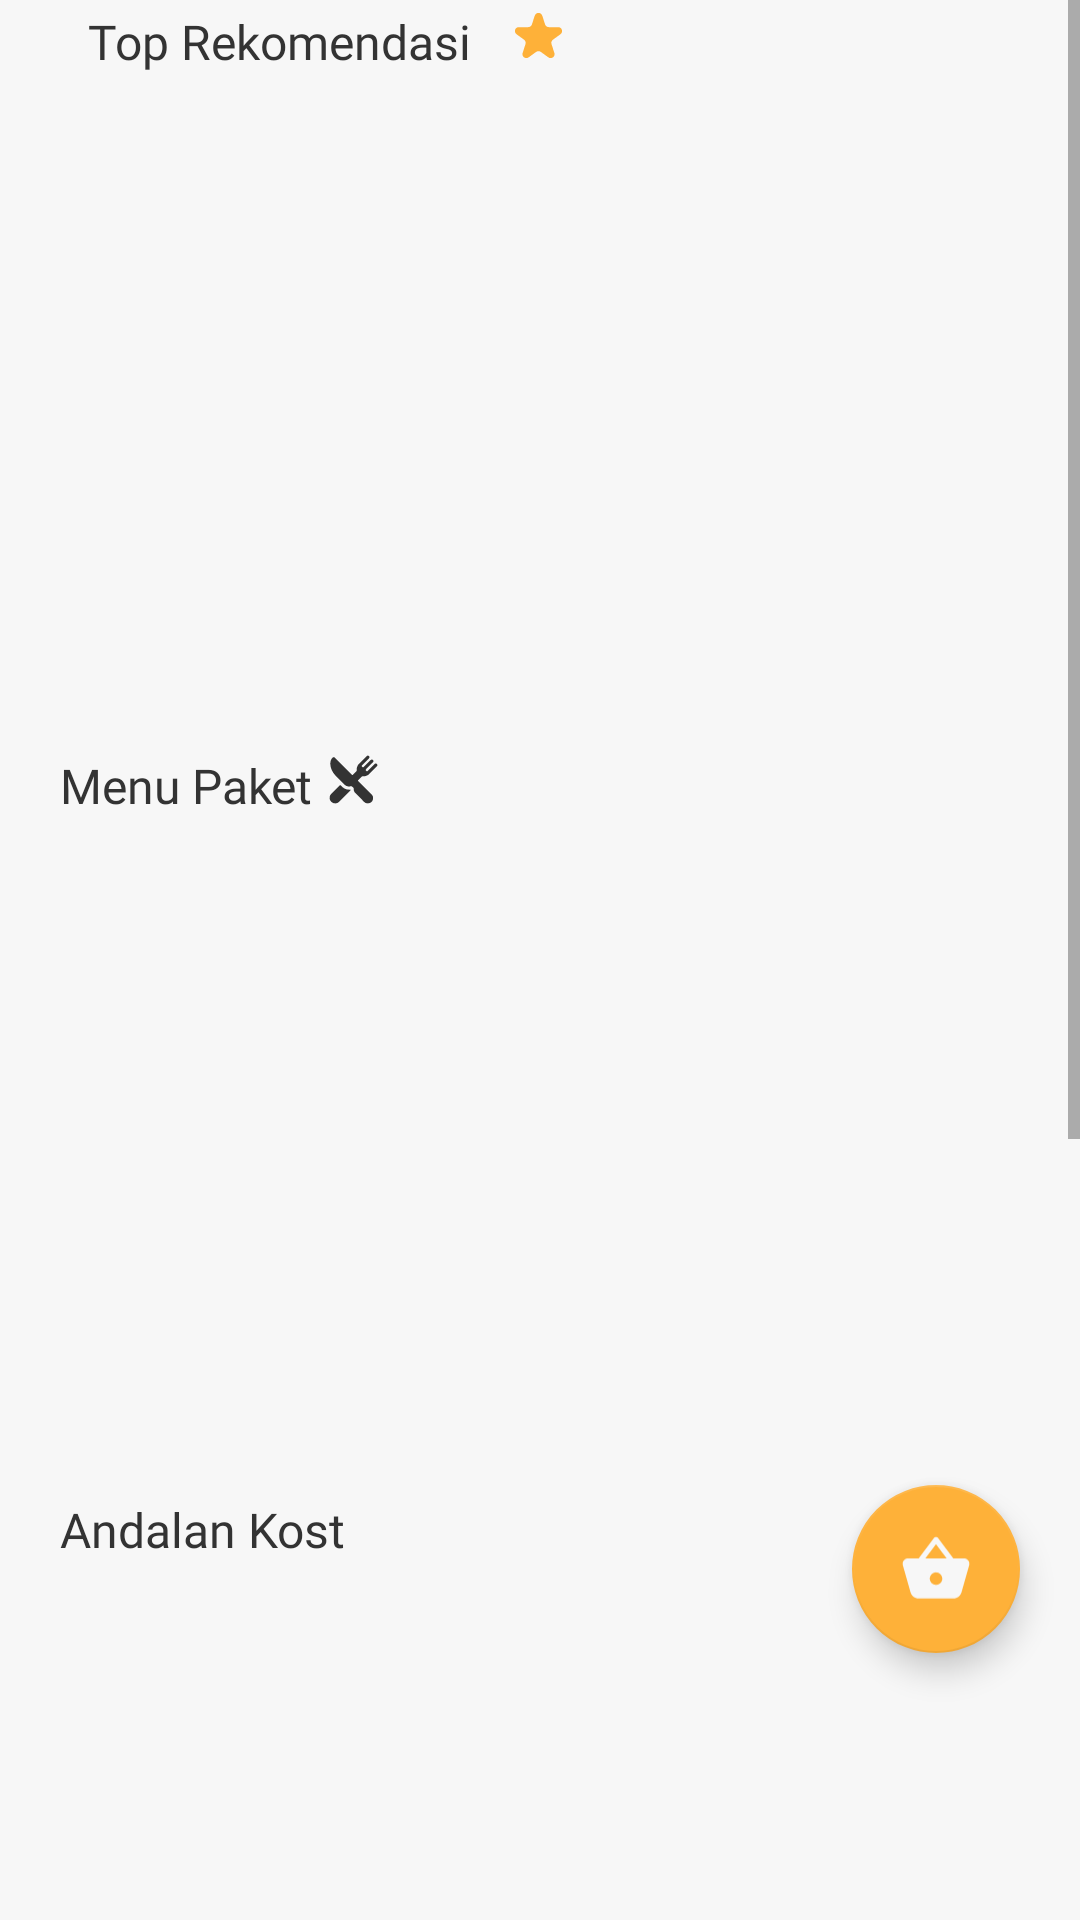

Icons on this 1080x1920 Android screen, each with the point to tap as (x,y):
keranjang: (936,1569)
restaurant: (353,779)
star: (538,35)
